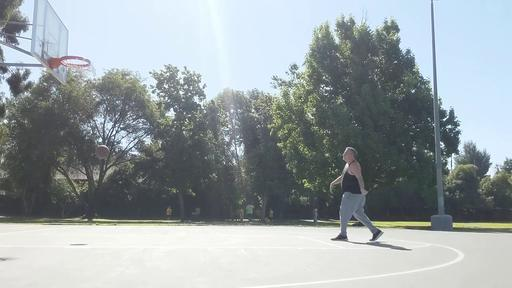ball: (95, 144, 109, 160)
human: (329, 146, 383, 242)
rim: (58, 56, 92, 83)
